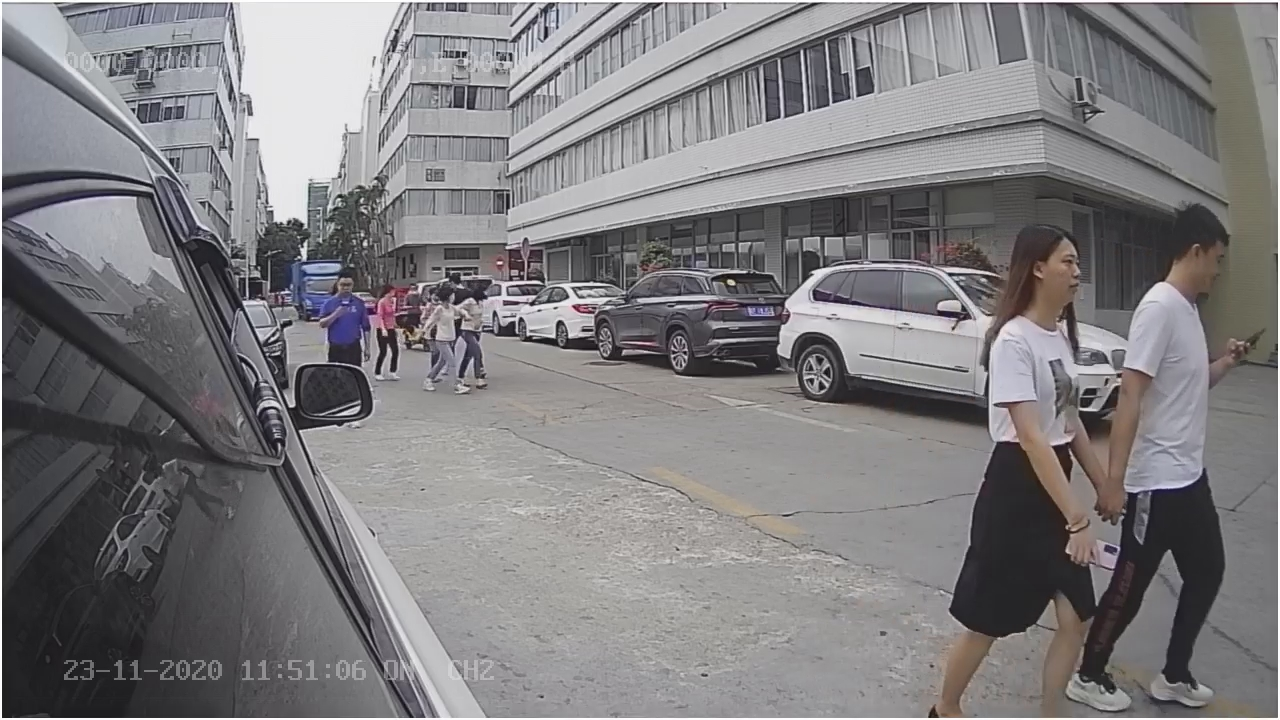person: (1067, 193, 1229, 711)
